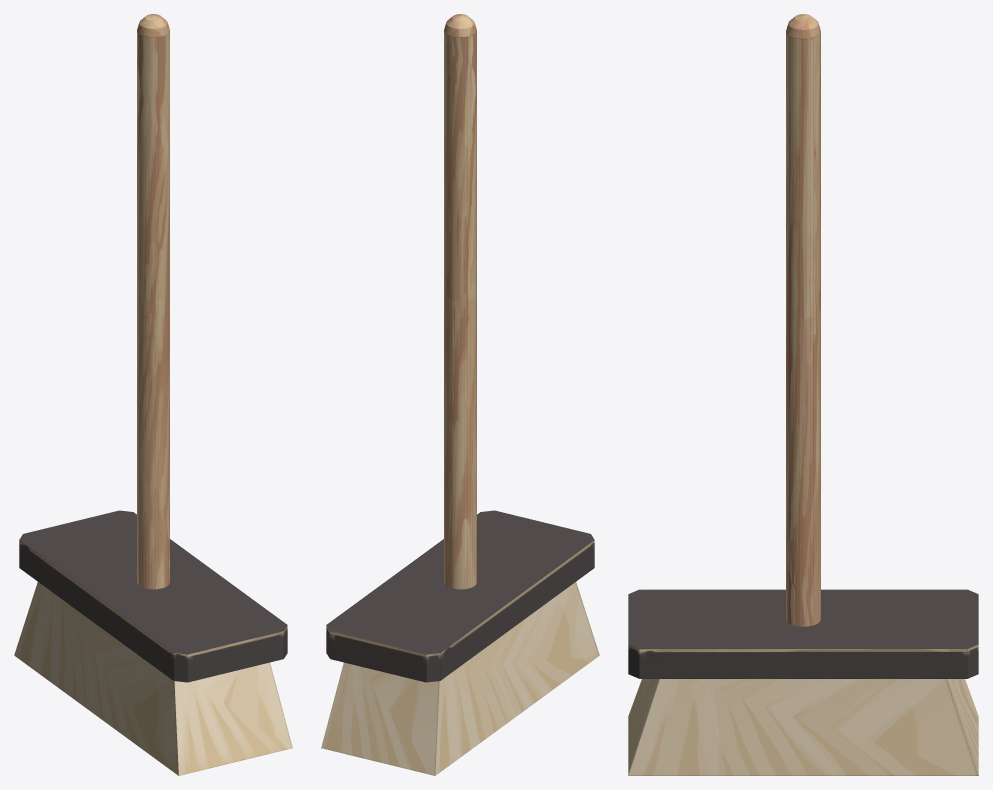
Rendered from besenGLTF.gltf.
3 views of the same model, side by side, from view 1: azimuth 30°, elevation 25°; view 2: azimuth 150°, elevation 25°; view 3: azimuth 270°, elevation 25° (orthographic). The views are drawn at different scales.
Visible parts, largest first — view 1: Cube, stange; view 2: Cube, stange; view 3: Cube, stange.
Boxes of the visible parts, left/top/right/bottom form: Cube: left=14, top=510, right=292, bottom=775; stange: left=137, top=14, right=169, bottom=589; Cube: left=321, top=510, right=599, bottom=775; stange: left=444, top=14, right=476, bottom=589; Cube: left=628, top=589, right=978, bottom=775; stange: left=786, top=14, right=820, bottom=626.
Bounding box in the file's own units: 0.4 × 2.3 × 1.
Materials: 2 (2 with a texture image).
